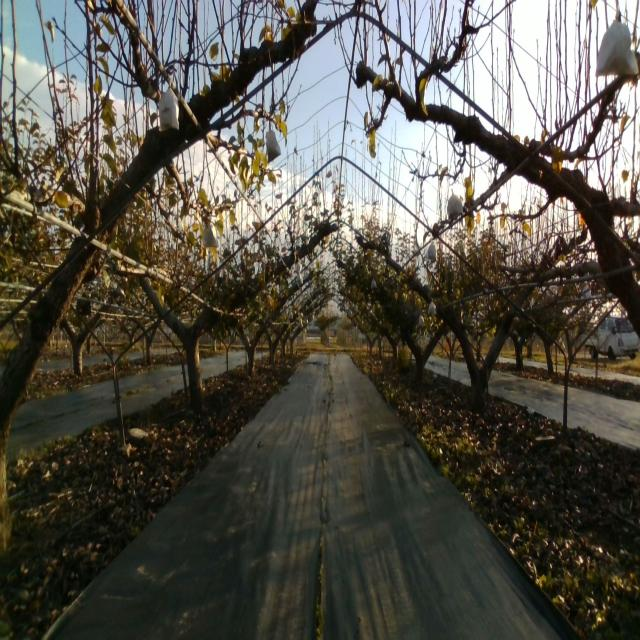pearbags: (595, 3, 639, 77), (156, 72, 181, 134), (266, 128, 282, 163), (447, 188, 464, 219), (203, 219, 220, 248)
